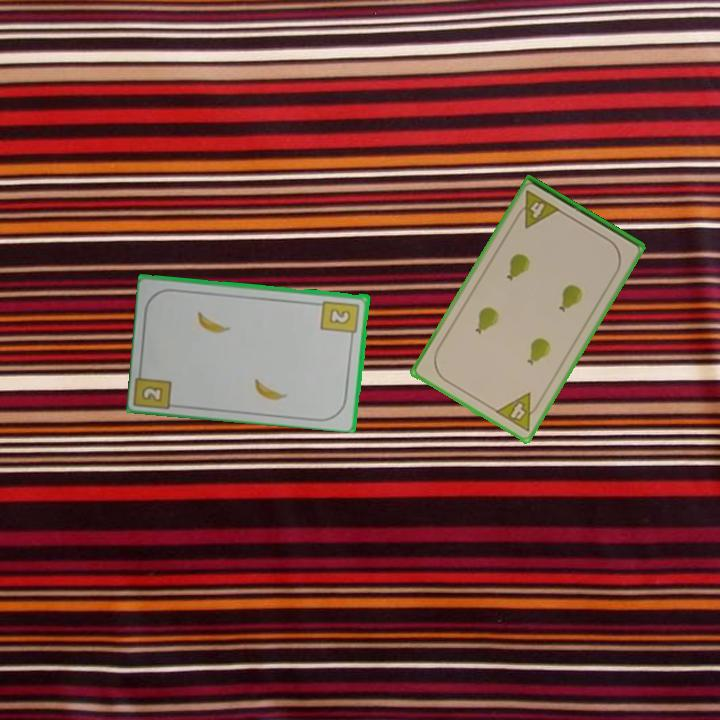2b: (318, 297, 362, 342), (138, 382, 166, 405)
4p: (491, 389, 545, 434), (511, 187, 563, 231)
